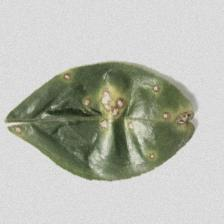canker: (60, 83, 188, 145)
